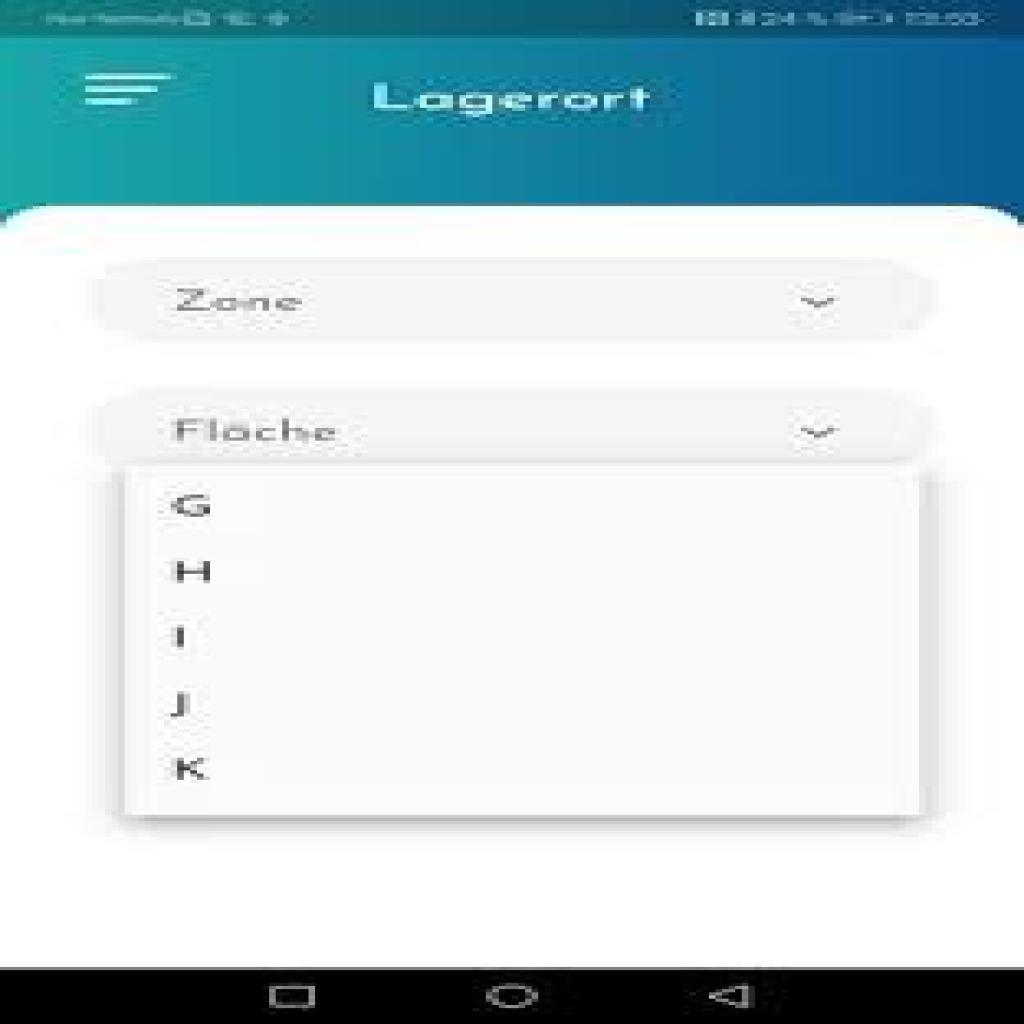dropdown: (108, 261, 920, 345), (118, 393, 928, 463)
icon: (51, 62, 206, 121)
